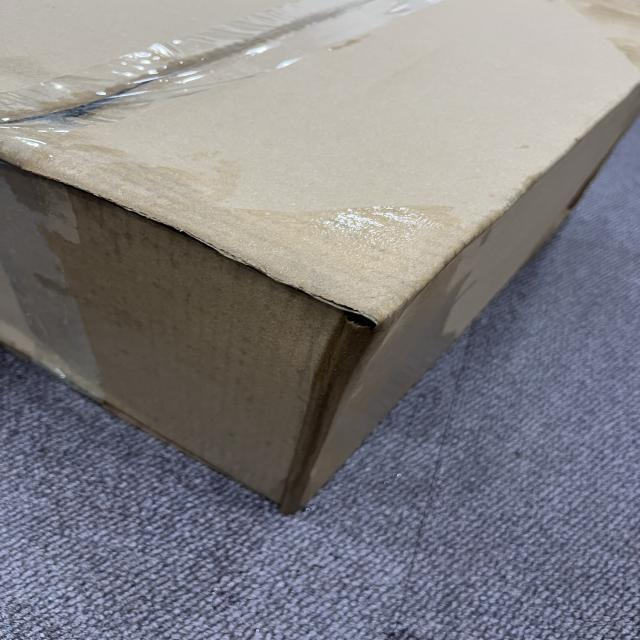wet: (21, 149, 510, 499)
